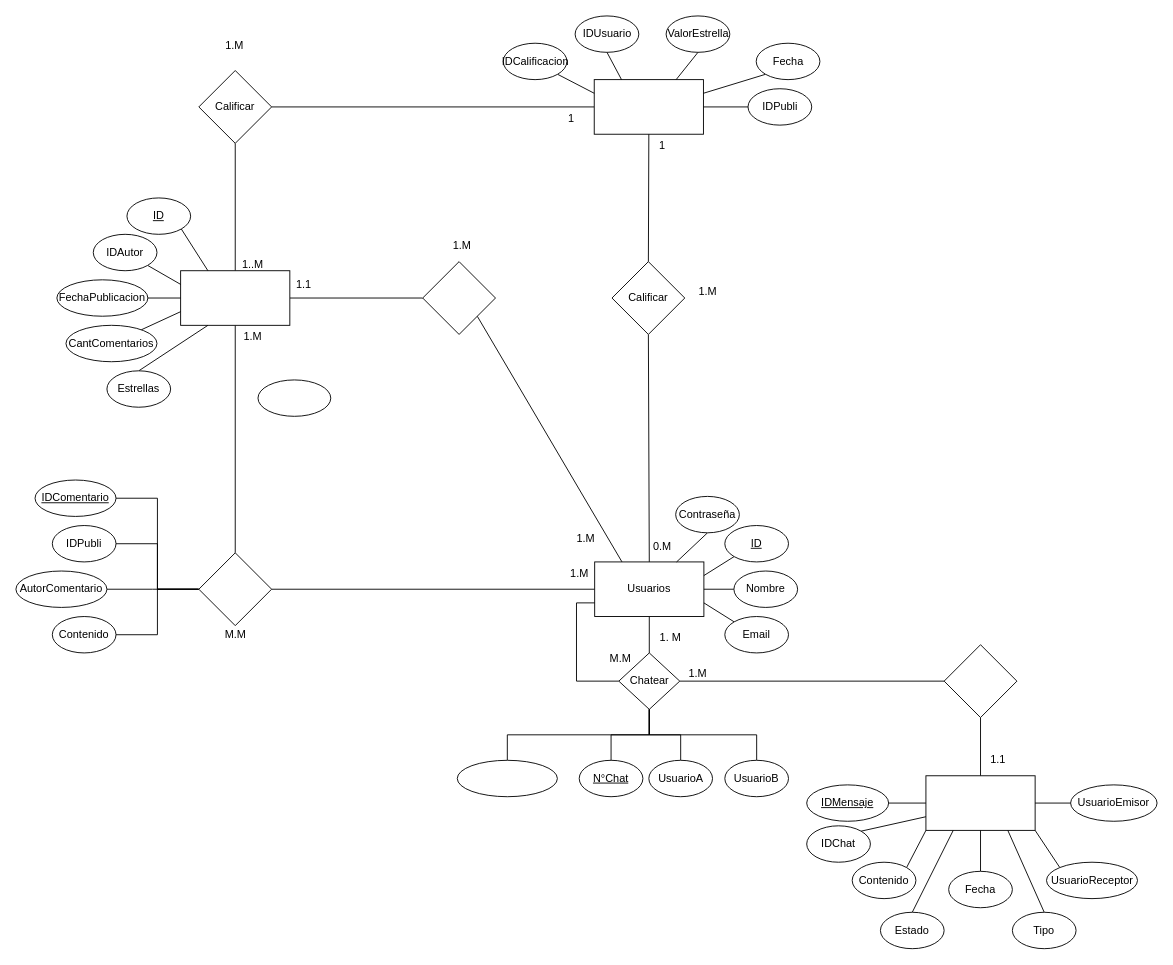
Image size: 1173x965. Some labels were removed from this diagram. The shapes that lost their labels are listed below. From the top down, each one's centre as x and y in pixels, then its label:
the point at 648,106: Calificación
the point at 235,297: Publicaciones
the point at 458,297: Publicar
the point at 294,397: NombreAutor
the point at 235,589: Comentar
the point at 980,681: Registrar
the point at 506,778: MensajesEnviados
the point at 980,802: Mensajes
